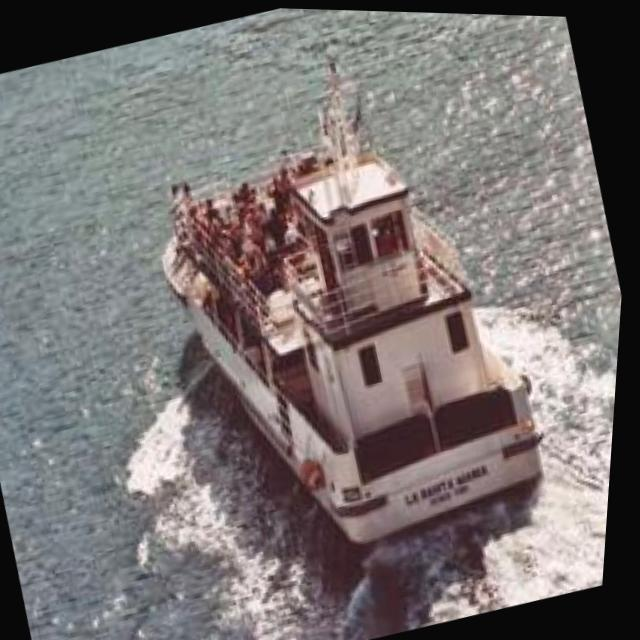ship2: (165, 43, 549, 545)
